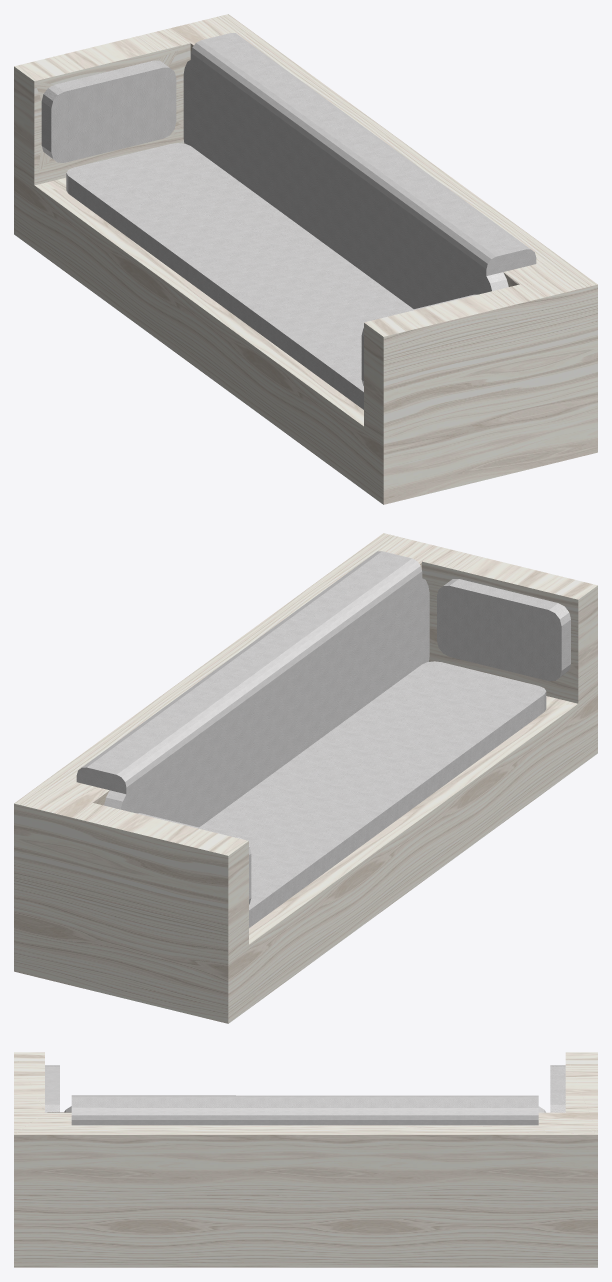
File: Sofa.fbx
3 renders of one model, top to bottom at view 1: azimuth 30°, elevation 25°; view 2: azimuth 150°, elevation 25°; view 3: azimuth 270°, elevation 25°, orthographic. The views are drawn at different scales.
Visible parts, largest first — view 1: Cube.001; view 2: Cube.001; view 3: Cube.001.
Part boxes in pixels (left/top/right/bottom): Cube.001: left=14, top=14, right=597, bottom=504; Cube.001: left=14, top=533, right=597, bottom=1023; Cube.001: left=14, top=1052, right=597, bottom=1267.
Size of the model in its own units: 93.32 by 77.02 by 279.
